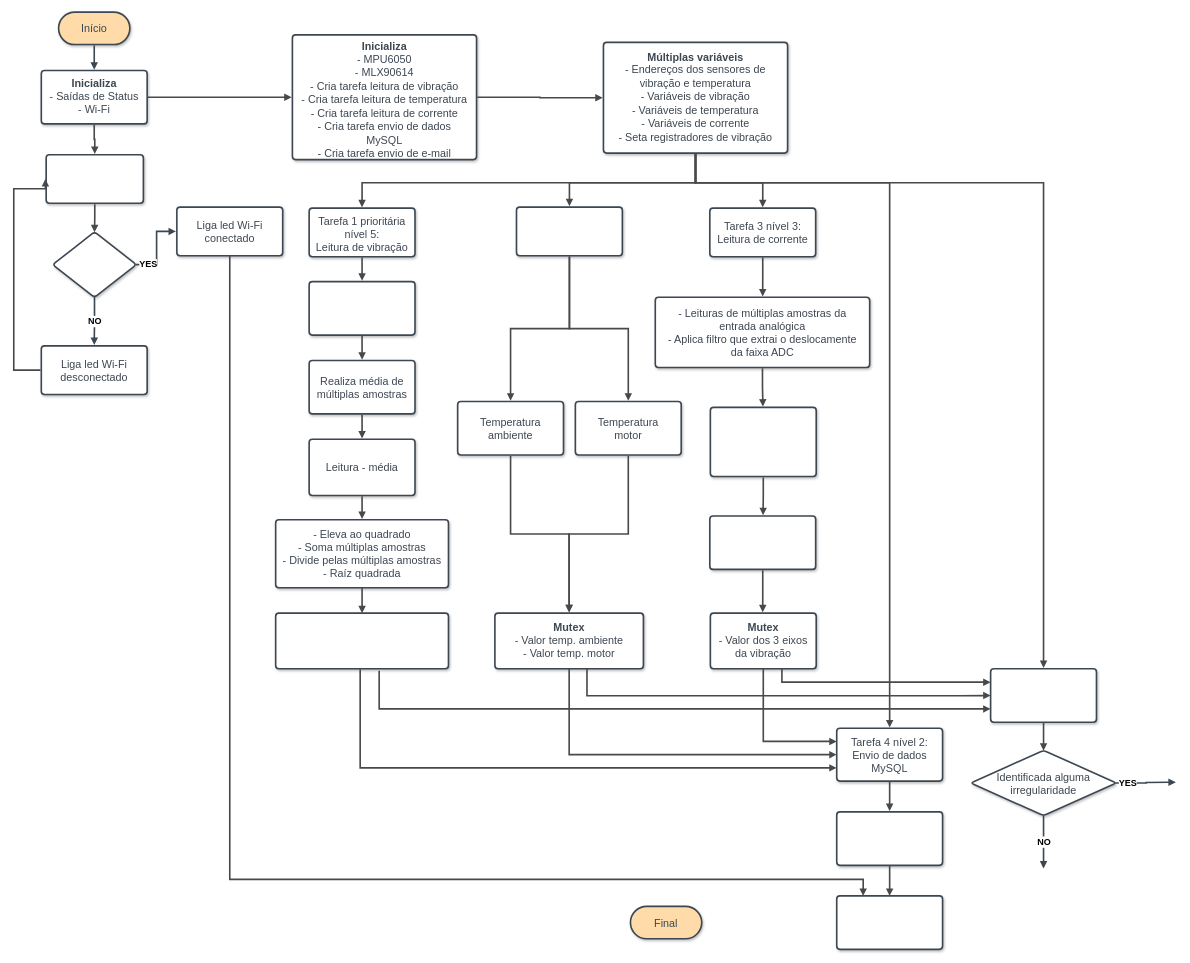
This 1190x963 diagram has some shape labels left out. Here are the shapes that lost their labels. From the top down, the centre of each, then its label:
At (x=95, y=179): "Realiza conexão Wi-Fi".
At (x=569, y=232): "Tarefa 2 nível 3: Leitura de temperatura".
At (x=94, y=265): "Wi-Fi Conectado".
At (x=362, y=308): "Leituras da amplitude dos 3 eixos de vibração".
At (x=763, y=442): "Calcula constante com base no valor do resistor, tensão e faixa do ADC".
At (x=763, y=543): "Calcula corrente".
At (x=362, y=641): "Mutex - Valor dos 3 eixos da vibração - Tempo de processamento".
At (x=1043, y=696): "Tarefa 5 nível 2: Envio de e-mail".
At (x=889, y=839): "Agrupa dados".
At (x=889, y=923): "Conexão com o servidor".
